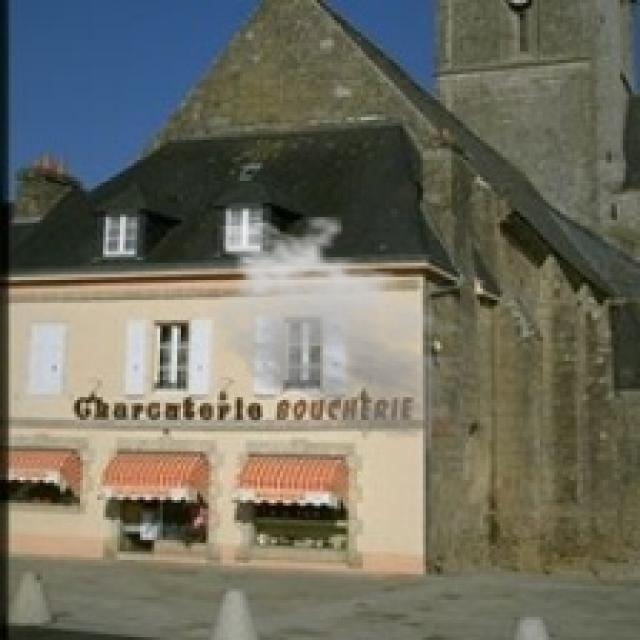smoke: (206, 214, 474, 440)
